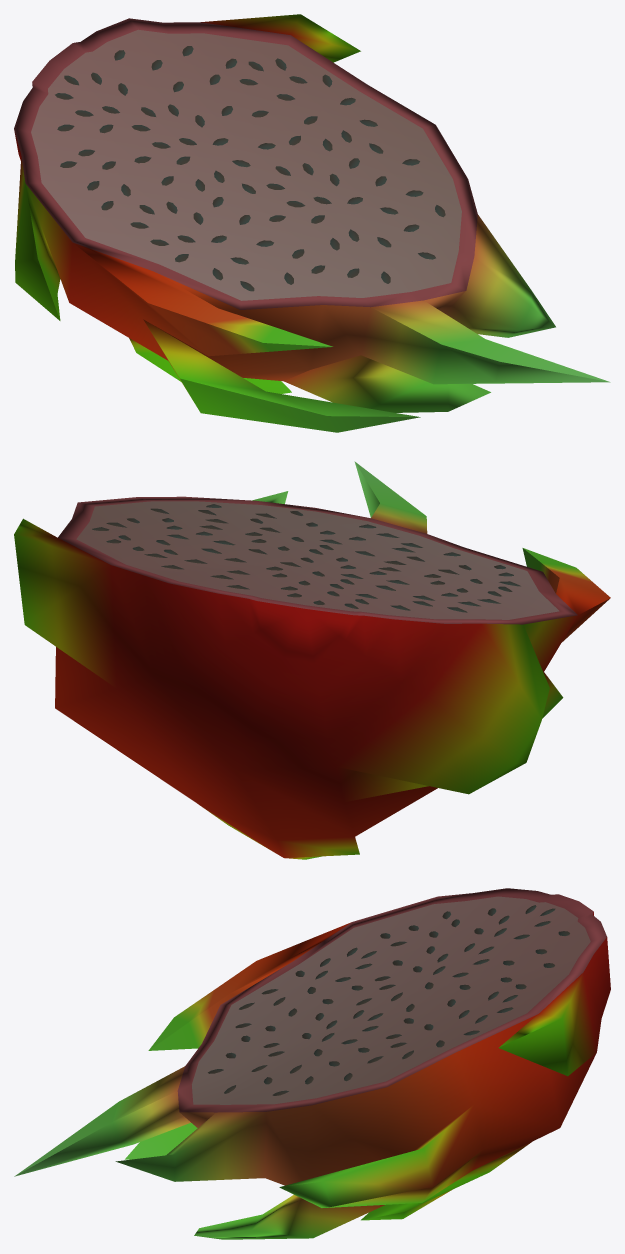
File: SM_Fruits_Dragonfruit_R2.glb
3 renders of one model, top to bottom at view 1: azimuth 30°, elevation 25°; view 2: azimuth 150°, elevation 25°; view 3: azimuth 270°, elevation 25°, orthographic. The views are drawn at different scales.
Parts seen in each view (by area): view 1: geometry_0; view 2: geometry_0; view 3: geometry_0.
Part boxes in pixels (box(x1,y1,x2,y2)): geometry_0: box(14, 14, 610, 432); geometry_0: box(14, 461, 610, 859); geometry_0: box(14, 888, 610, 1239).
Bounding box in the file's own units: 0.1486 × 0.1052 × 0.2014.
1 material, 1 textured.
